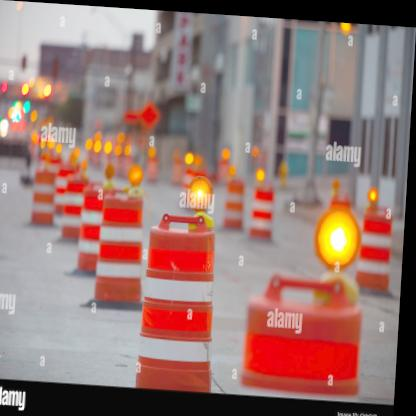obstacle: (140, 200, 230, 390), (94, 190, 154, 312)
